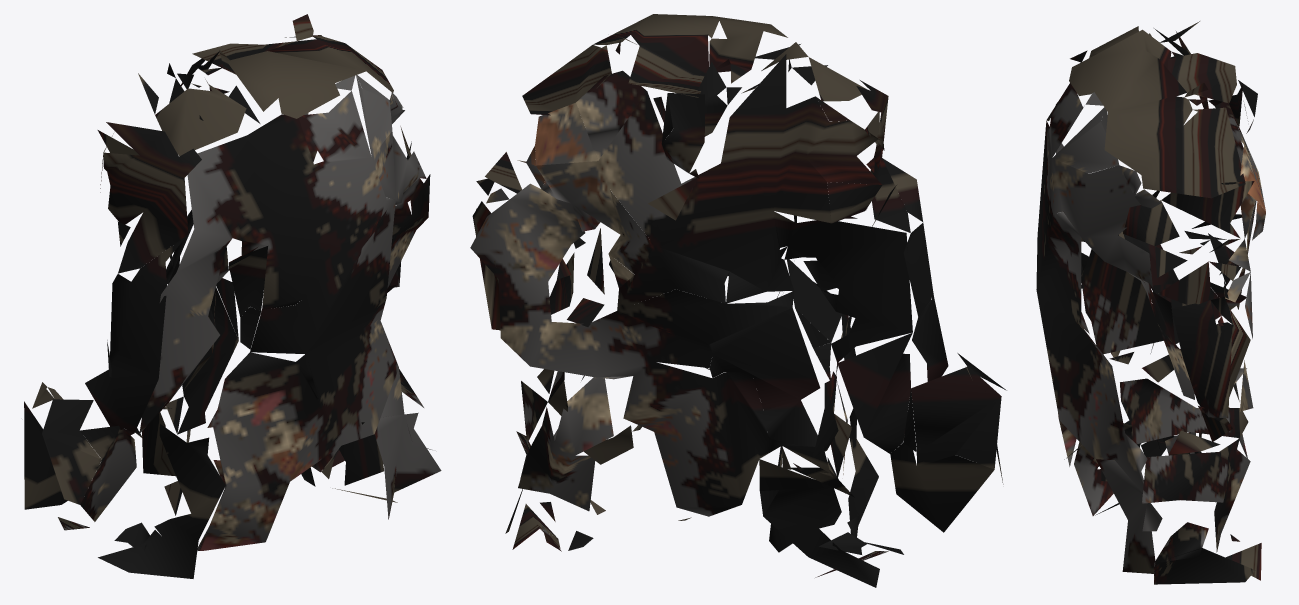
3 renders of one model, left to right at view 1: azimuth 30°, elevation 25°; view 2: azimuth 150°, elevation 25°; view 3: azimuth 270°, elevation 25°, orthographic. The views are drawn at different scales.
Parts seen in each view (by area): view 1: body.002; view 2: body.002; view 3: body.002.
Part boxes in pixels (<box>): body.002: <box>24,14,441,578</box>; body.002: <box>470,14,1006,587</box>; body.002: <box>1036,21,1265,584</box>.
Size of the model in its own units: 1.89 by 2 by 0.9375.
1 material, 1 textured.
